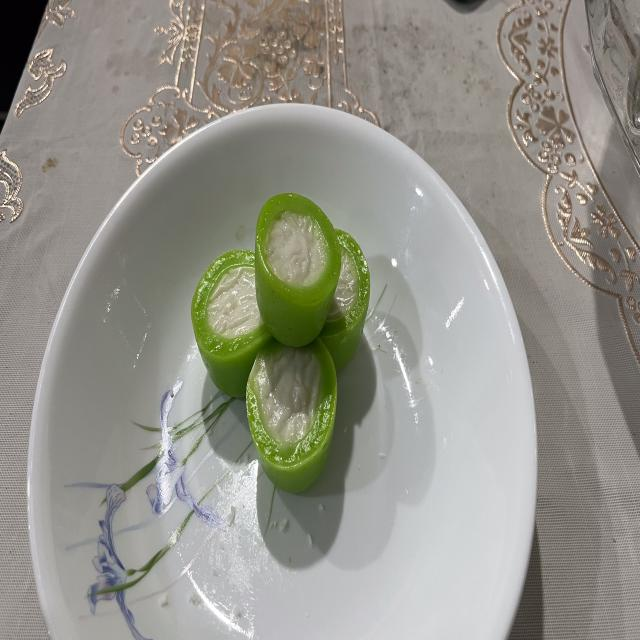nona-manis: (246, 338, 338, 493), (255, 193, 341, 347), (191, 251, 271, 398), (320, 229, 370, 369)
